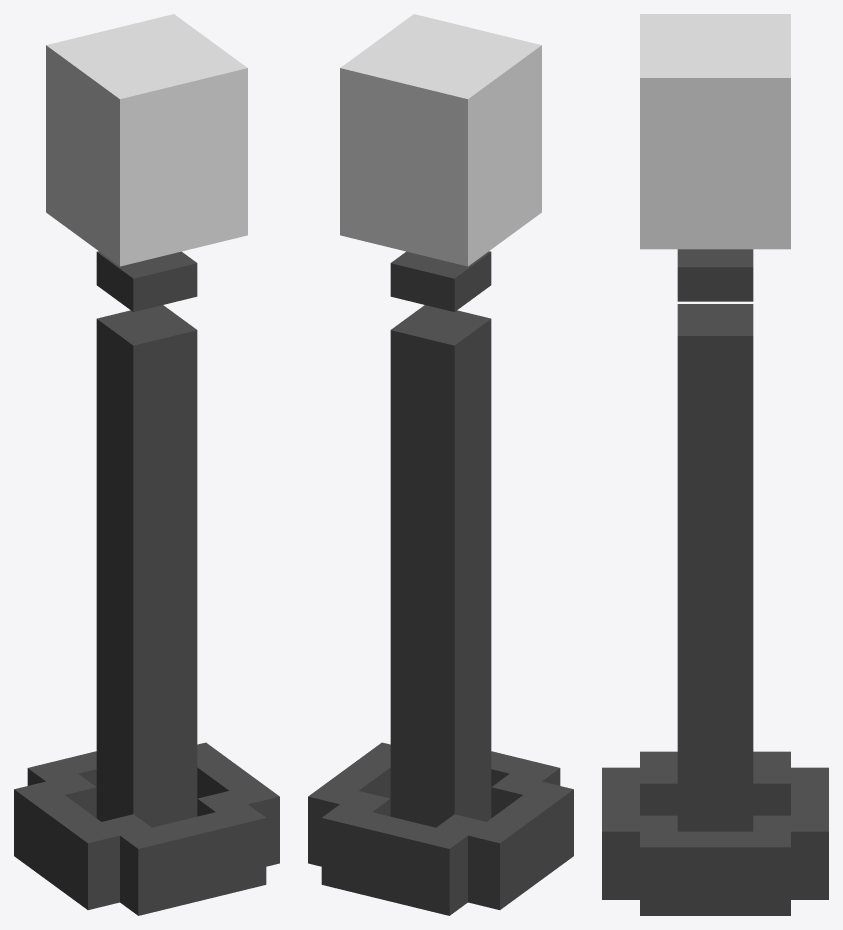
Rendered from LightPost2.obj.
3 views of the same model, side by side, from view 1: azimuth 30°, elevation 25°; view 2: azimuth 150°, elevation 25°; view 3: azimuth 270°, elevation 25° (orthographic). The views are drawn at different scales.
Visible parts, largest first — view 1: LightPost2; view 2: LightPost2; view 3: LightPost2.
Part boxes in pixels (x1,y1,x2,y2): LightPost2: (14, 14, 279, 915); LightPost2: (308, 14, 573, 915); LightPost2: (602, 14, 828, 915).
Size of the model in its own units: 0.378 by 1.51 by 0.378.
1 material, 1 textured.
